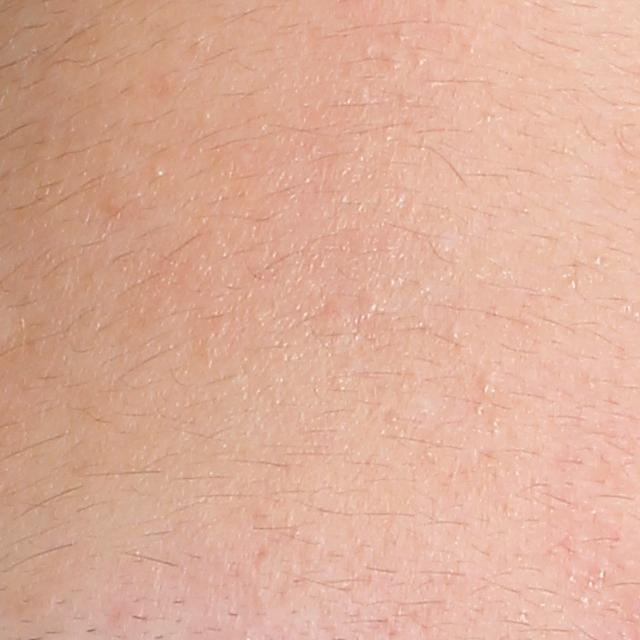comedo: (476, 373, 501, 401), (150, 162, 166, 180)
